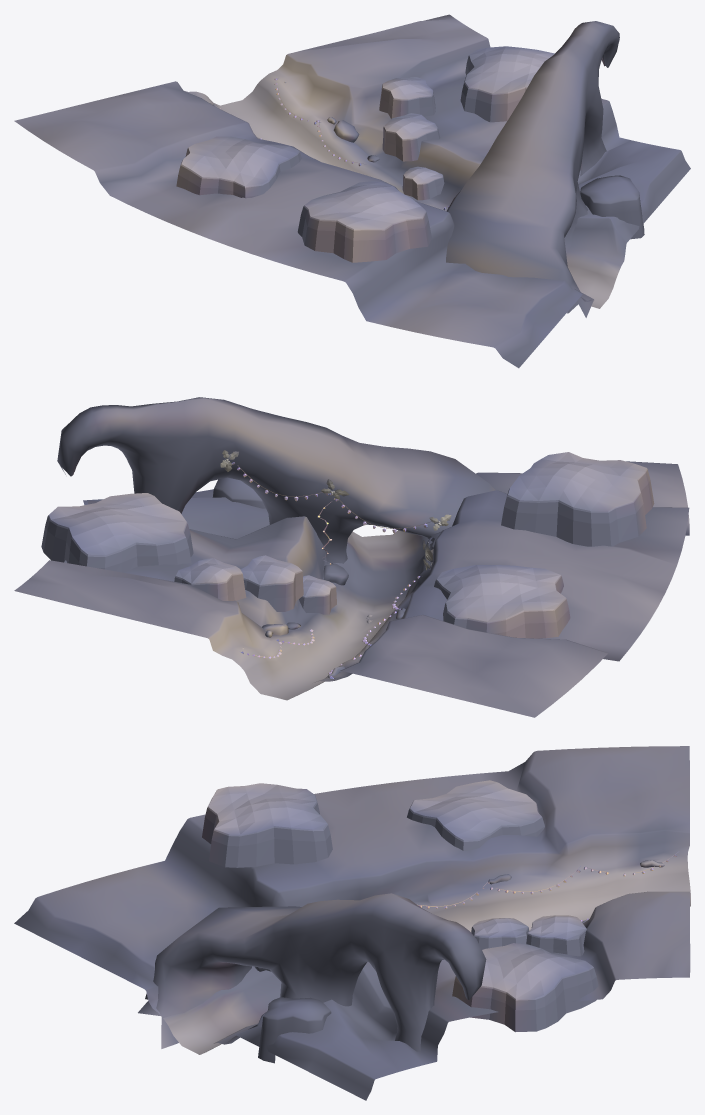
Rendered from Arctic_Luge_Curve_Left_40_A.glb.
3 renders of one model, top to bottom at view 1: azimuth 30°, elevation 25°; view 2: azimuth 150°, elevation 25°; view 3: azimuth 270°, elevation 25°, orthographic. The views are drawn at different scales.
Parts seen in each view (by area): view 1: Arctic_Luge_Curve_Left_40_A, Arctic_Luge_MediumIceRock_prop (1), Arctic_Luge_MediumIceRock_prop, Arctic_Luge_MediumIceRock_prop (2), Arctic_Luge_SmallIceRock_prop (1), Arctic_Luge_SmallIceRock_prop, Arctic_Luge_SmallIceRock_prop (2); view 2: Arctic_Luge_Curve_Left_40_A, Arctic_Luge_MediumIceRock_prop (1), Arctic_Luge_MediumIceRock_prop (2), Arctic_Luge_MediumIceRock_prop, Arctic_Luge_SmallIceRock_prop (1), Arctic_Luge_SmallIceRock_prop, Arctic_Luge_SmallIceRock_prop (2); view 3: Arctic_Luge_Curve_Left_40_A, Arctic_Luge_MediumIceRock_prop (1), Arctic_Luge_MediumIceRock_prop (2), Arctic_Luge_MediumIceRock_prop, Arctic_Luge_SmallIceRock_prop, Arctic_Luge_SmallIceRock_prop (1).
Boxes of the visible parts, box(x1,y1,x2,y2) form: Arctic_Luge_Curve_Left_40_A: box(14, 14, 690, 368); Arctic_Luge_MediumIceRock_prop (1): box(297, 181, 431, 262); Arctic_Luge_MediumIceRock_prop: box(176, 136, 301, 198); Arctic_Luge_MediumIceRock_prop (2): box(460, 46, 554, 122); Arctic_Luge_SmallIceRock_prop (1): box(382, 113, 440, 161); Arctic_Luge_SmallIceRock_prop: box(379, 77, 435, 118); Arctic_Luge_SmallIceRock_prop (2): box(402, 166, 444, 200); Arctic_Luge_Curve_Left_40_A: box(14, 397, 689, 717); Arctic_Luge_MediumIceRock_prop (1): box(501, 452, 654, 546); Arctic_Luge_MediumIceRock_prop (2): box(41, 493, 193, 572); Arctic_Luge_MediumIceRock_prop: box(434, 565, 570, 638); Arctic_Luge_SmallIceRock_prop (1): box(240, 555, 303, 611); Arctic_Luge_SmallIceRock_prop: box(174, 558, 246, 600); Arctic_Luge_SmallIceRock_prop (2): box(299, 575, 336, 614); Arctic_Luge_Curve_Left_40_A: box(14, 746, 690, 1100); Arctic_Luge_MediumIceRock_prop (1): box(202, 783, 332, 867); Arctic_Luge_MediumIceRock_prop (2): box(452, 943, 598, 1032); Arctic_Luge_MediumIceRock_prop: box(407, 780, 544, 850); Arctic_Luge_SmallIceRock_prop: box(526, 915, 586, 956); Arctic_Luge_SmallIceRock_prop (1): box(471, 918, 529, 949).
Bounding box in the file's own units: 31.5 × 9.78 × 32.09.
